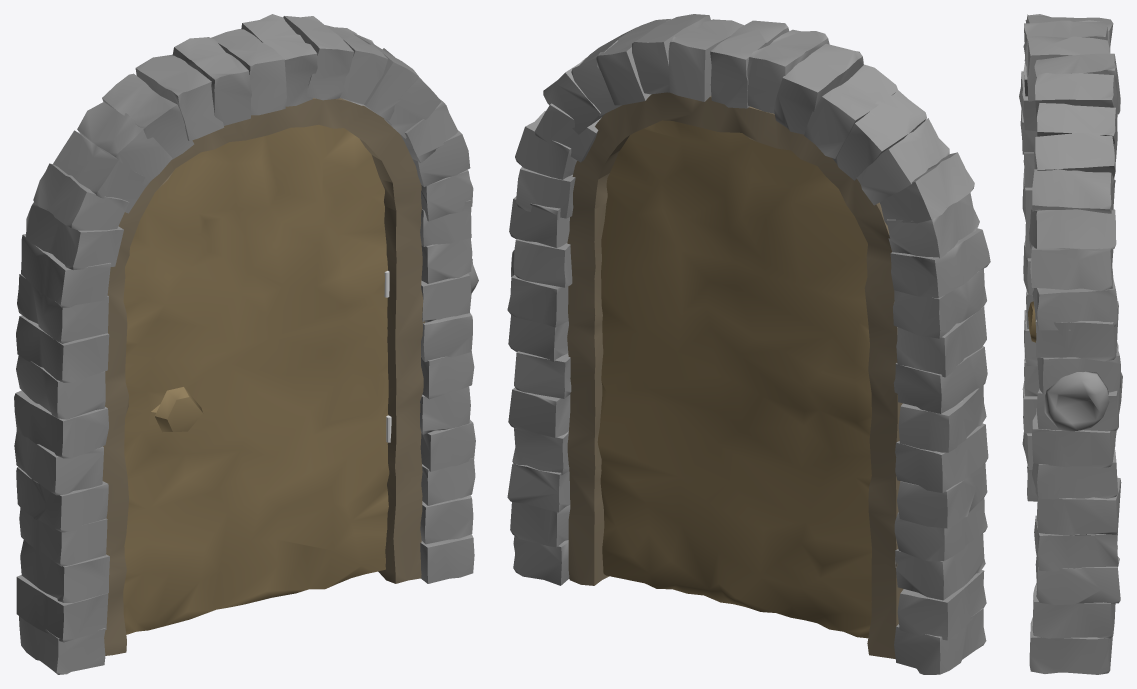
File: Door.fbx
3 renders of one model, left to right at view 1: azimuth 30°, elevation 25°; view 2: azimuth 150°, elevation 25°; view 3: azimuth 270°, elevation 25°, orthographic. The views are drawn at different scales.
Parts seen in each view (by area): view 1: Door2, Door_Frame2, pCube111, pCube91, pCube104, pCube95, pCube107, pCube96, pCube99, pCube90, pCube94, pCube108 (+27 smaller); view 2: Door2, Door_Frame2, pCube111, pCube108, pCube90, pCube104, pCube103, pCube96, pCube98, pCube93, pCube94, pCube102 (+27 smaller); view 3: pCube88, pCube81, pCube105, pCube86, pCube80, Gem_Slot2, pCube79, pCube87, pCube106, pCube84, pCube78, pCube83 (+22 smaller).
Boxes of the visible parts, left/top/right/bottom form: Door2: left=123, top=124, right=389, bottom=634; Door_Frame2: left=102, top=98, right=424, bottom=655; pCube111: left=135, top=55, right=224, bottom=140; pCube91: left=14, top=390, right=108, bottom=458; pCube104: left=77, top=102, right=172, bottom=186; pCube95: left=16, top=315, right=109, bottom=382; pCube107: left=172, top=37, right=251, bottom=125; pCube96: left=33, top=163, right=129, bottom=230; pCube99: left=26, top=202, right=123, bottom=270; pCube90: left=21, top=234, right=111, bottom=307; pCube94: left=16, top=575, right=108, bottom=642; pCube108: left=102, top=73, right=194, bottom=159; Door2: left=597, top=120, right=871, bottom=638; Door_Frame2: left=567, top=92, right=903, bottom=658; pCube111: left=773, top=43, right=863, bottom=134; pCube108: left=804, top=64, right=897, bottom=158; pCube90: left=890, top=228, right=990, bottom=298; pCube104: left=832, top=89, right=926, bottom=180; pCube103: left=856, top=118, right=949, bottom=205; pCube96: left=879, top=152, right=974, bottom=225; pCube98: left=895, top=423, right=988, bottom=492; pCube93: left=893, top=268, right=986, bottom=338; pCube94: left=897, top=570, right=986, bottom=640; pCube102: left=893, top=346, right=987, bottom=413; pCube88: left=1030, top=245, right=1113, bottom=291; pCube81: left=1029, top=209, right=1116, bottom=249; pCube105: left=1032, top=169, right=1115, bottom=213; pCube86: left=1032, top=408, right=1116, bottom=468; pCube80: left=1037, top=477, right=1121, bottom=536; Gem_Slot2: left=1044, top=371, right=1109, bottom=431; pCube79: left=1029, top=617, right=1112, bottom=674; pCube87: left=1035, top=545, right=1120, bottom=604; pCube106: left=1034, top=133, right=1115, bottom=178; pCube84: left=1032, top=271, right=1117, bottom=330; pCube78: left=1035, top=301, right=1118, bottom=361; pCube83: left=1032, top=583, right=1115, bottom=638.
Size of the model in its own units: 20.31 by 25.09 by 4.41.
